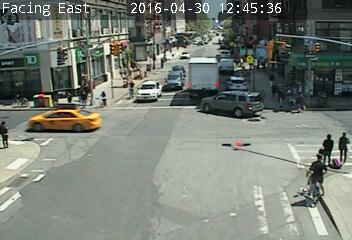neg: (298, 152, 340, 209), (28, 157, 69, 212), (163, 52, 202, 104), (215, 98, 243, 135), (240, 144, 268, 181), (49, 110, 75, 145), (115, 148, 141, 182), (191, 163, 215, 195), (310, 56, 332, 86), (120, 76, 137, 98)
pos: (1, 117, 23, 146), (77, 88, 91, 106), (97, 90, 110, 108), (266, 72, 279, 89)
